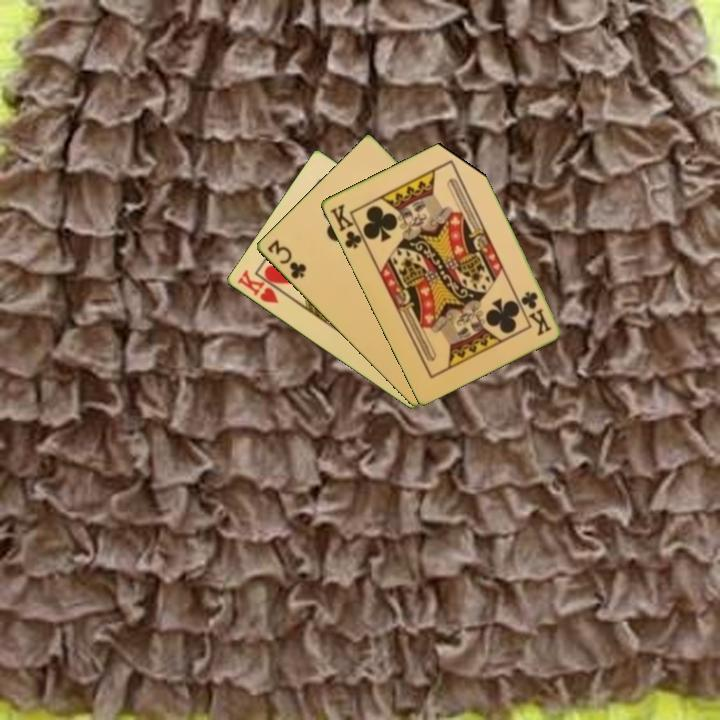3c: (263, 236, 309, 282)
Kc: (326, 200, 368, 252), (517, 287, 554, 338)
Kh: (233, 266, 289, 307)
